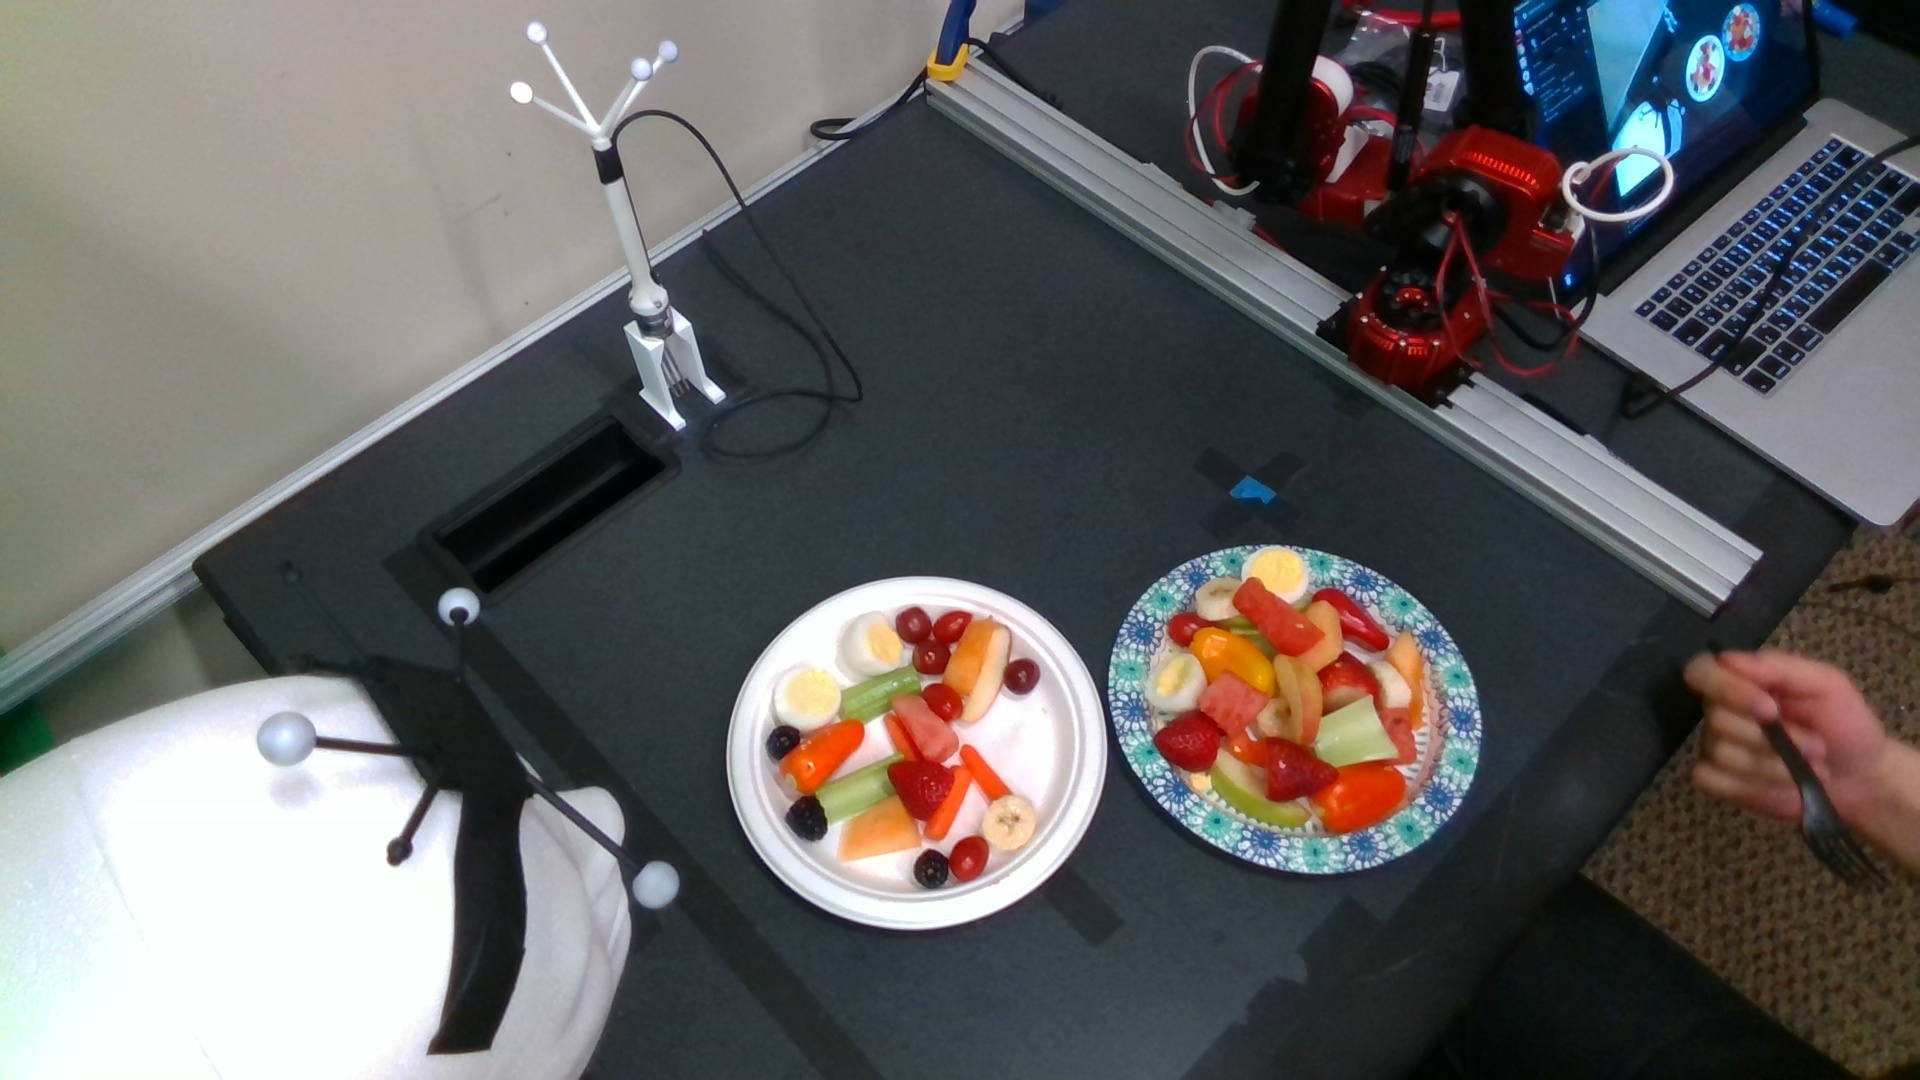apple: (1273, 651, 1328, 749), (963, 625, 1010, 727), (1207, 746, 1261, 808)
banana: (981, 795, 1038, 851), (1197, 574, 1246, 621), (1373, 657, 1412, 708)
bell pepper: (1313, 757, 1406, 831), (781, 719, 865, 791), (1191, 626, 1279, 688), (1313, 587, 1390, 651)
blackberry: (891, 692, 960, 762), (785, 796, 828, 843), (760, 725, 800, 760), (914, 849, 949, 887)
cantalope: (840, 796, 919, 857), (943, 613, 992, 694), (1393, 629, 1425, 684)
carrot: (928, 767, 972, 837), (957, 744, 1007, 796), (884, 711, 920, 766)
celery: (1313, 702, 1400, 764), (816, 762, 897, 823), (839, 665, 922, 723)
cherry tomato: (922, 683, 963, 723), (951, 835, 986, 880), (1168, 613, 1218, 644), (1004, 658, 1040, 694), (935, 611, 972, 644)
egg: (771, 659, 839, 731), (1241, 547, 1309, 607), (844, 611, 905, 676), (1145, 651, 1207, 709)
grape: (913, 637, 952, 675), (895, 607, 934, 641)
melon: (1233, 578, 1325, 655), (1197, 674, 1273, 738)
plate: (727, 568, 1110, 934), (1116, 545, 1484, 870)
strawberry: (1263, 736, 1338, 800), (887, 756, 955, 822), (1317, 647, 1381, 709), (1155, 711, 1218, 770)
